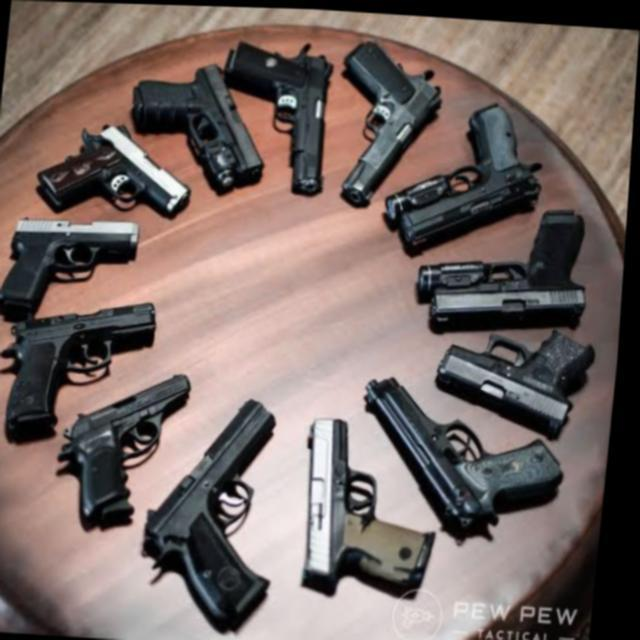weapon: (0, 13, 631, 640)
